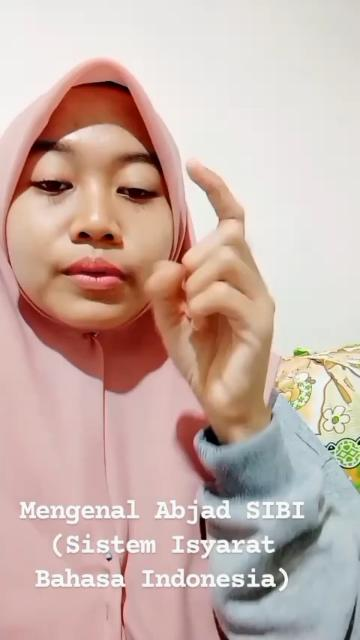X: (145, 154, 281, 418)
